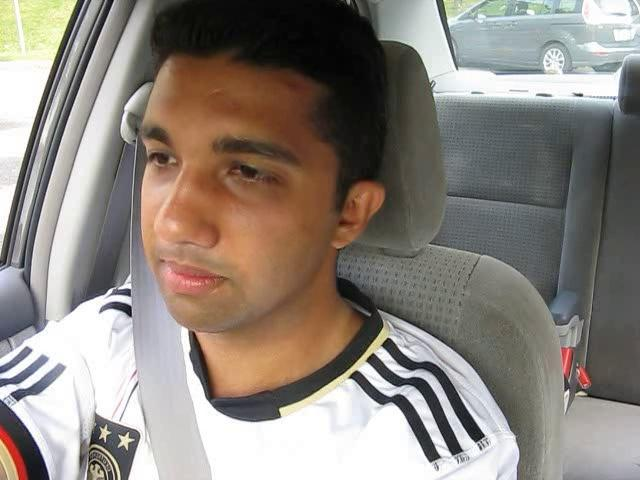no_yawn: (137, 252, 242, 301)
open_eyeL: (134, 137, 189, 180)
open_eyeR: (211, 146, 295, 197)
